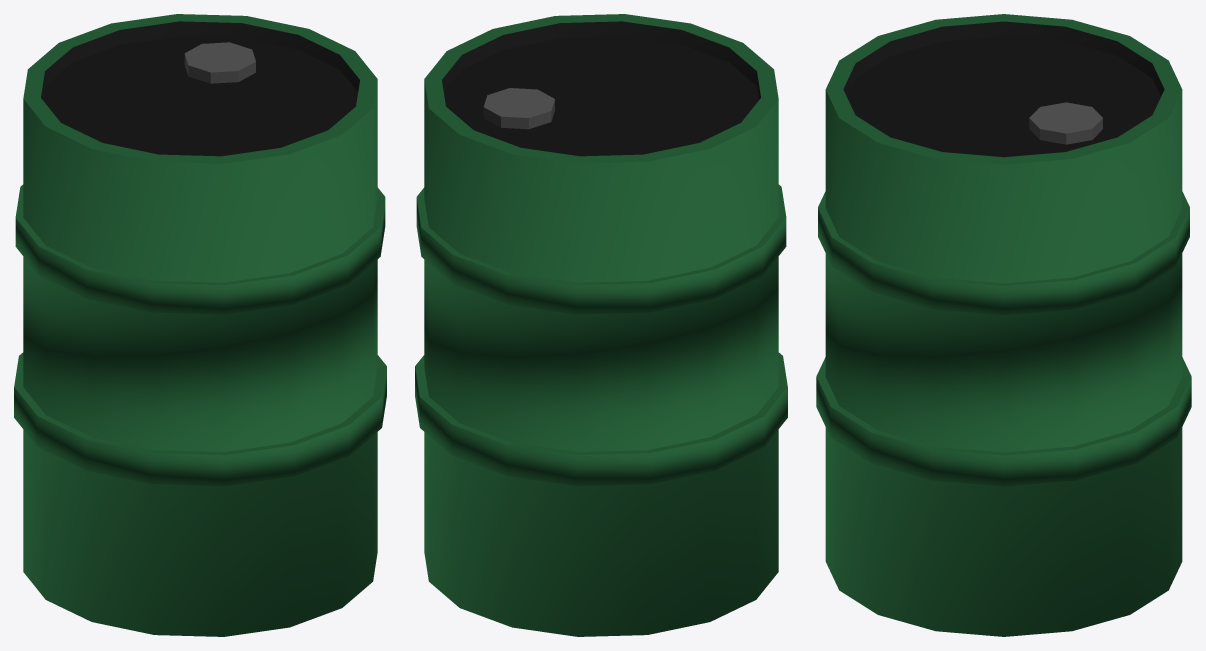
Rendered from Barrel3.fbx.
3 views of the same model, side by side, from view 1: azimuth 30°, elevation 25°; view 2: azimuth 150°, elevation 25°; view 3: azimuth 270°, elevation 25° (orthographic).
Visible parts, largest first — view 1: Cylinder, Cylinder.001; view 2: Cylinder, Cylinder.001; view 3: Cylinder, Cylinder.001.
Part boxes in pixels (left/top/right/bottom): Cylinder: left=14, top=14, right=386, bottom=636; Cylinder.001: left=184, top=42, right=255, bottom=83; Cylinder: left=415, top=14, right=787, bottom=636; Cylinder.001: left=483, top=88, right=554, bottom=129; Cylinder: left=816, top=14, right=1191, bottom=636; Cylinder.001: left=1029, top=102, right=1102, bottom=144.
Bounding box in the file's own units: 210 × 292 × 210.
